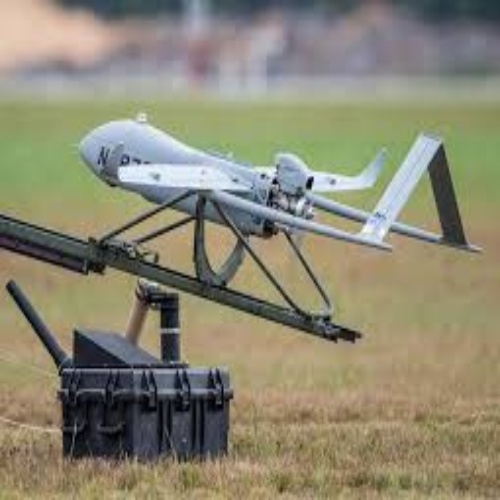uav: (75, 111, 484, 265)
